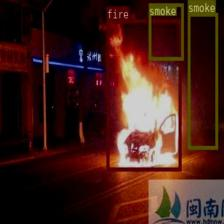fire: (106, 19, 181, 170)
smoke: (188, 12, 217, 149), (148, 2, 183, 60)
